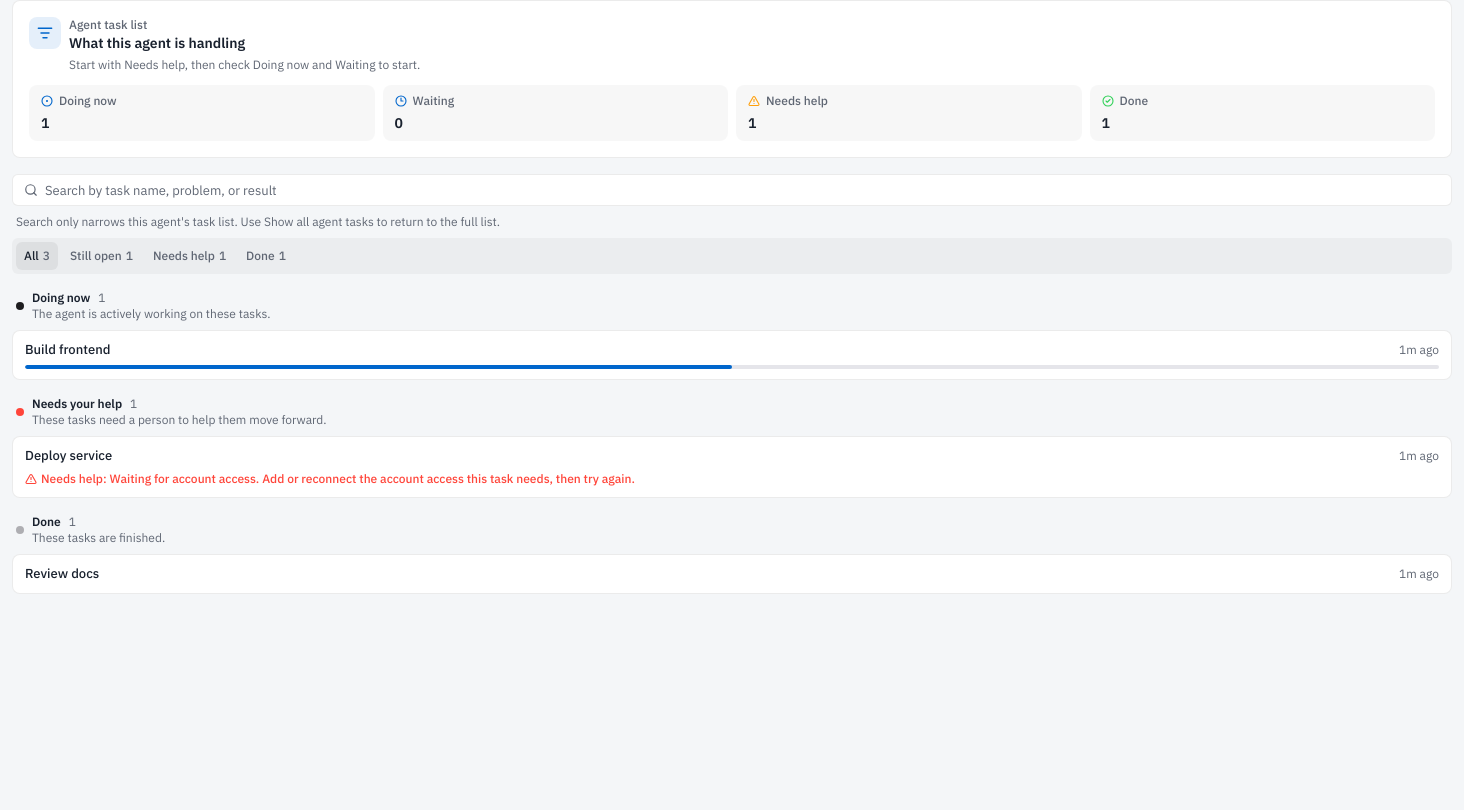
AgentTasksTab › filters and searches tasks inside the agent profile
Expected: the text "Deploy service" is shown, [25,447,112,464]
Click the button named "show tasks that need help or stopped early for this agent, 1 matching task" at (190, 256), box [145,242,234,270]
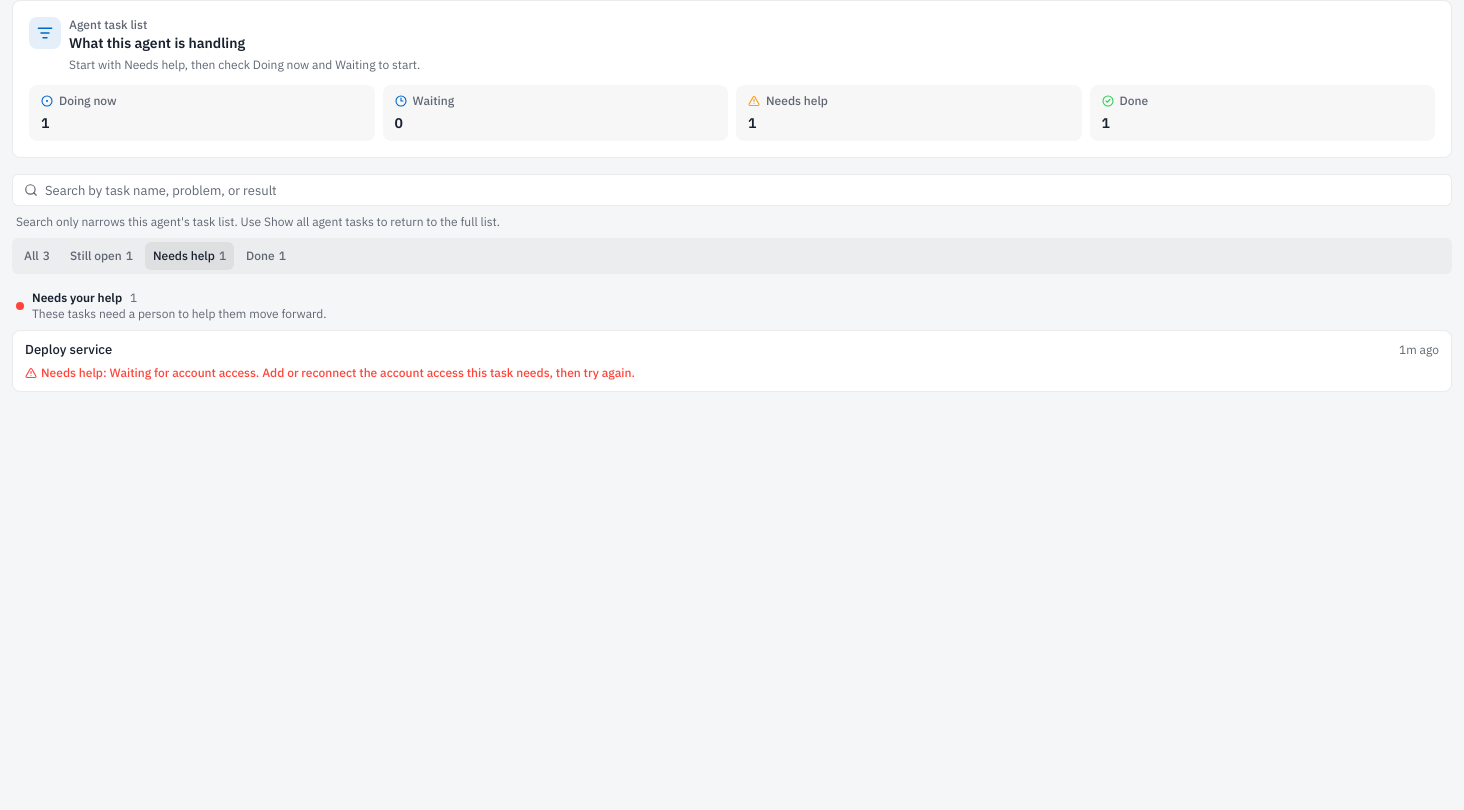
Expected: the text "Deploy service" is shown, [25,341,112,358]
Expected: the text "Build frontend" is gone
Expected: the text "Review docs" is gone
Click the button with aria-label "show all tasks for this agent, 3 matching tasks" at (37, 256), box [16,242,58,270]
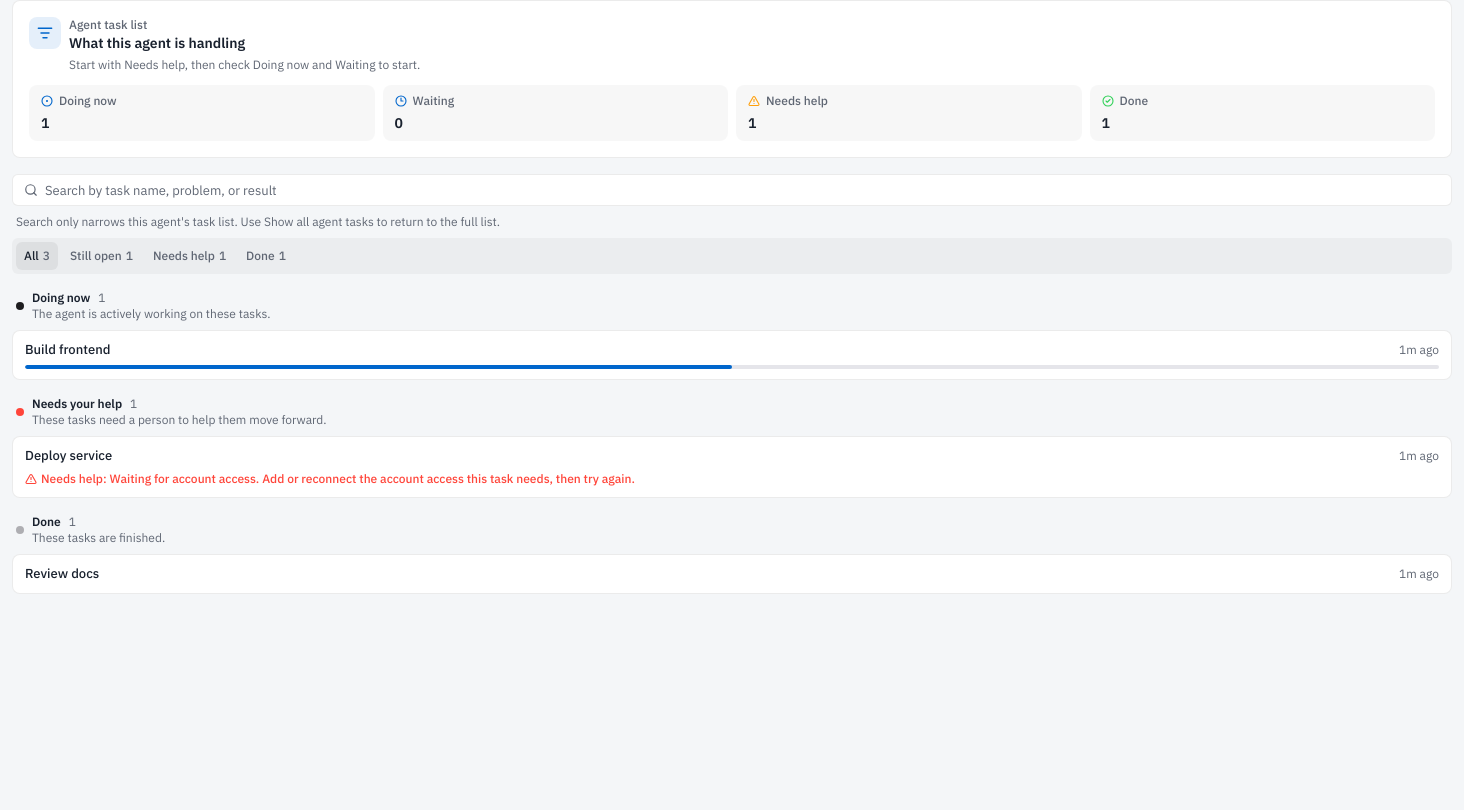
Type "frontend" into the search field with test id "agent-task-search" at (732, 190), box [12,174,1452,206]
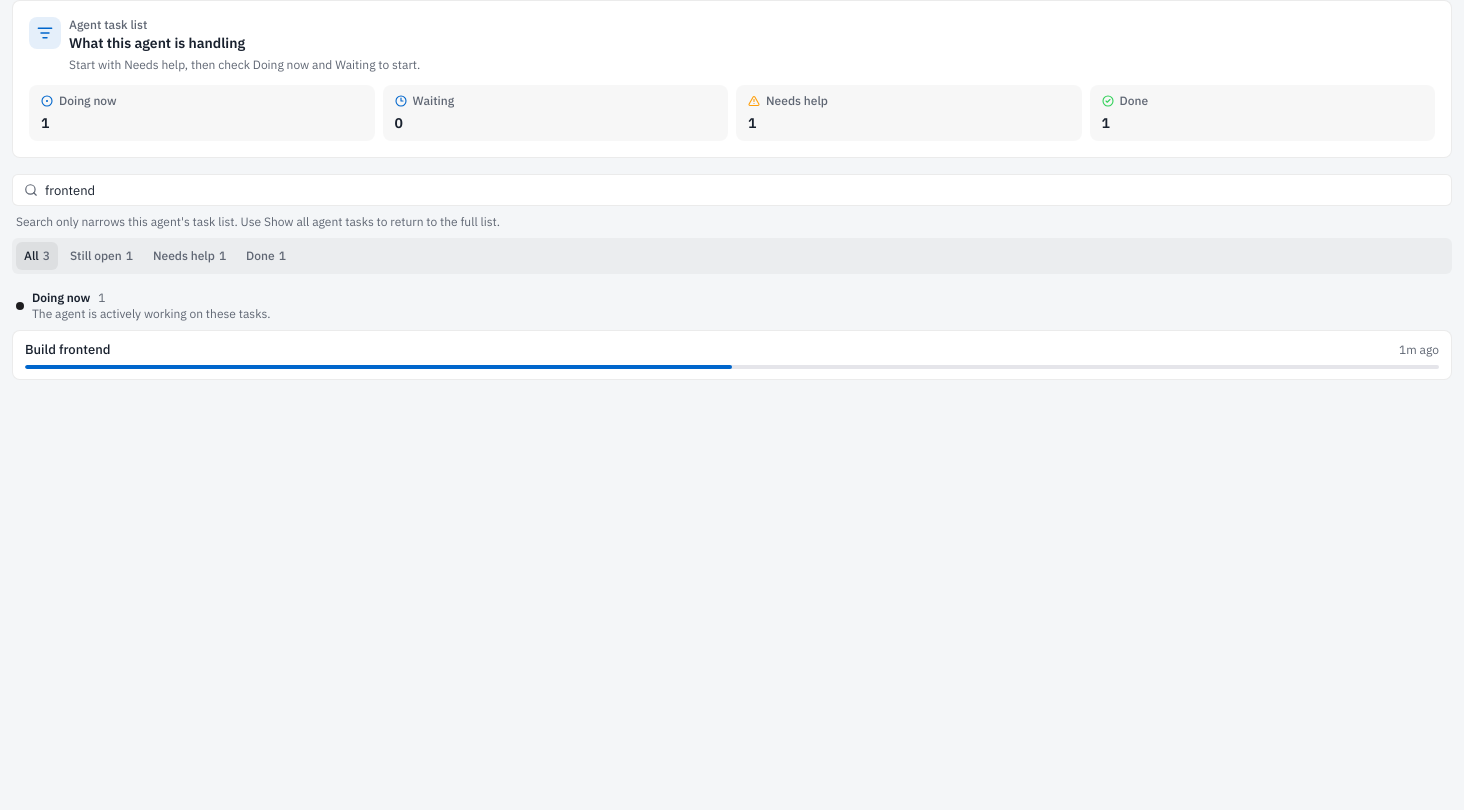
Expected: the text "Build frontend" is shown, [25,341,110,358]
Expected: the text "Deploy service" is gone
